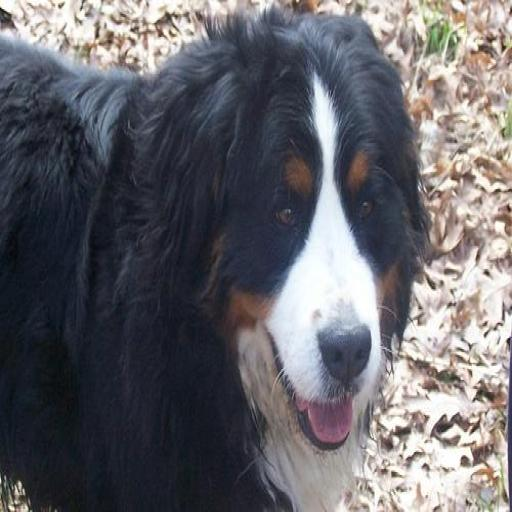dog_face: (182, 28, 419, 432)
